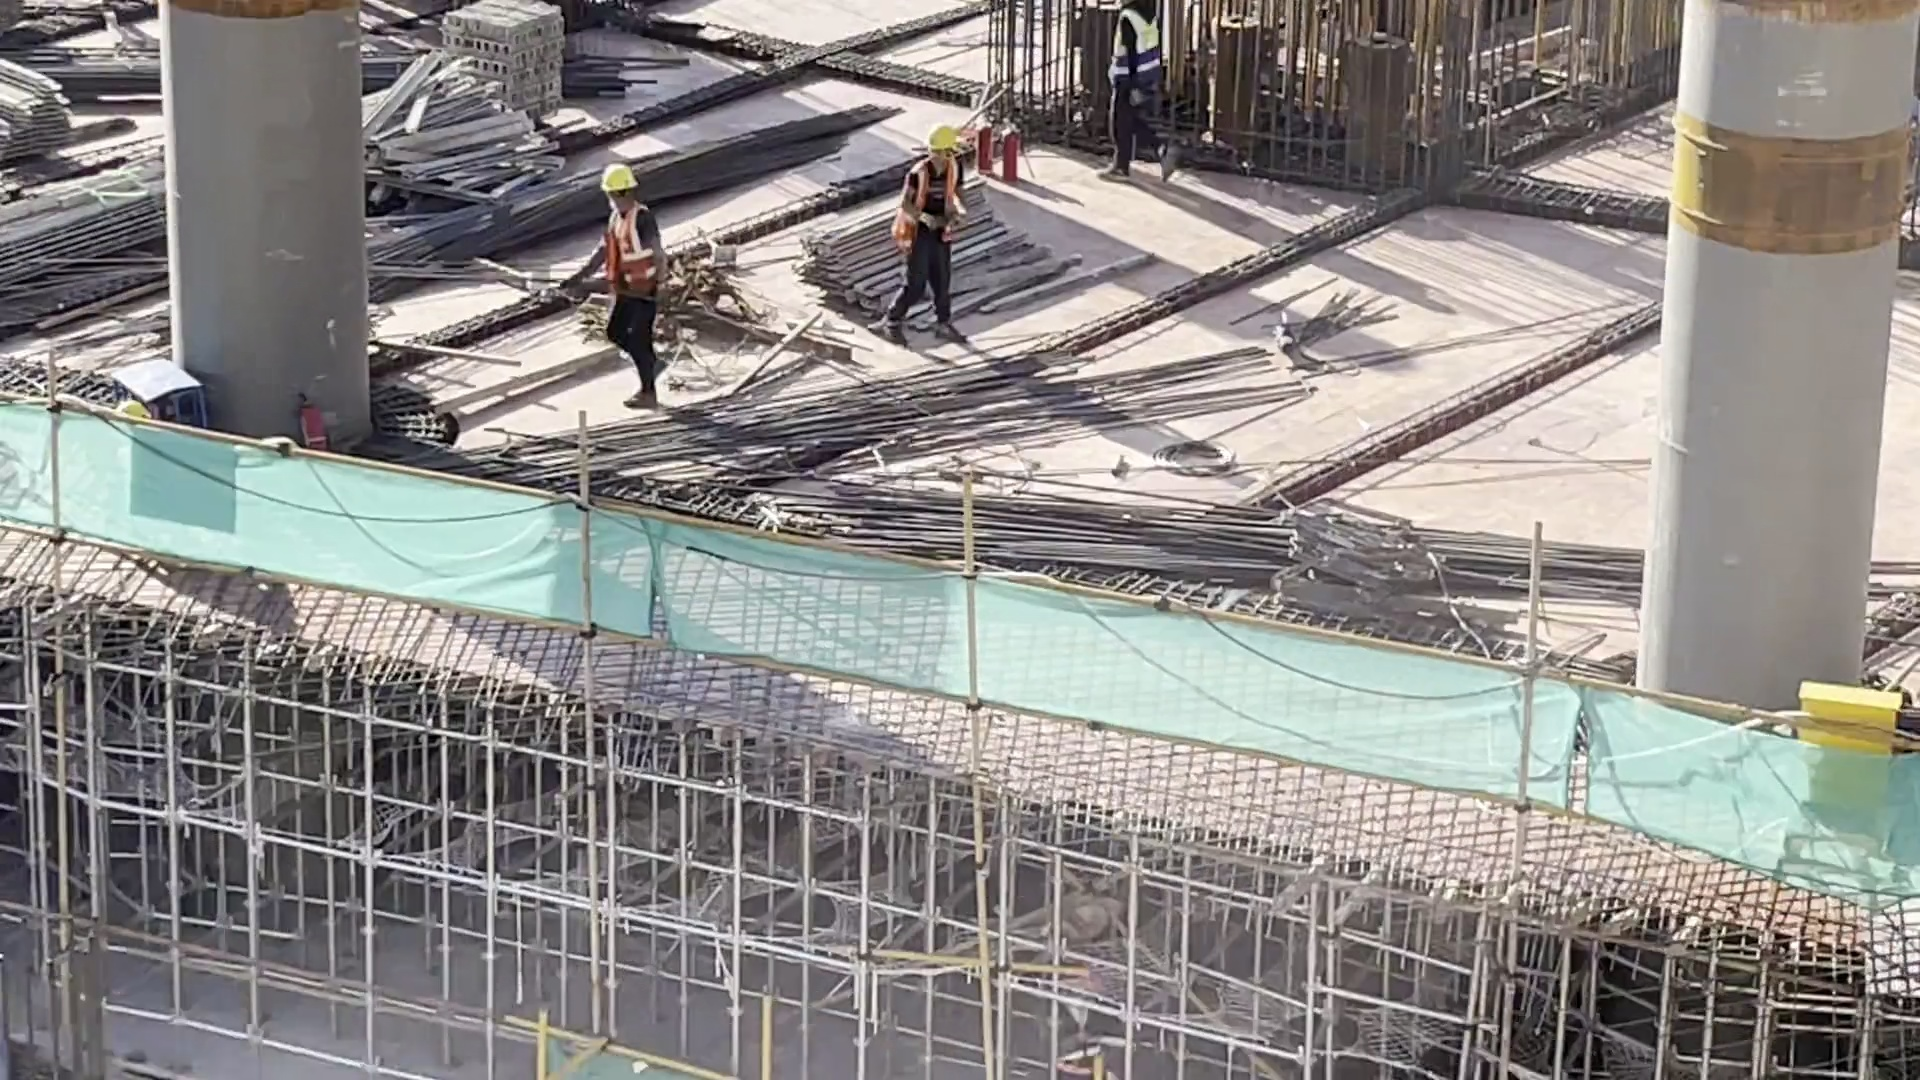helmet: (589, 157, 650, 192), (926, 122, 964, 148)
person: (570, 161, 677, 376), (1078, 1, 1186, 179), (895, 120, 970, 350)
vest: (590, 205, 656, 298), (902, 156, 961, 257)
